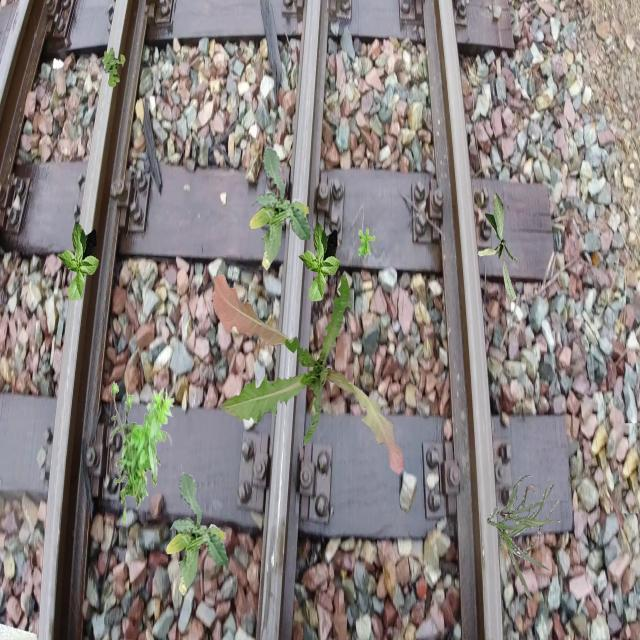Plant: (212, 272, 404, 474), (110, 380, 174, 524), (488, 475, 561, 600), (249, 146, 312, 270), (166, 472, 228, 596), (478, 193, 518, 303), (298, 222, 340, 302), (57, 221, 99, 301), (102, 48, 126, 89), (358, 227, 376, 259)
